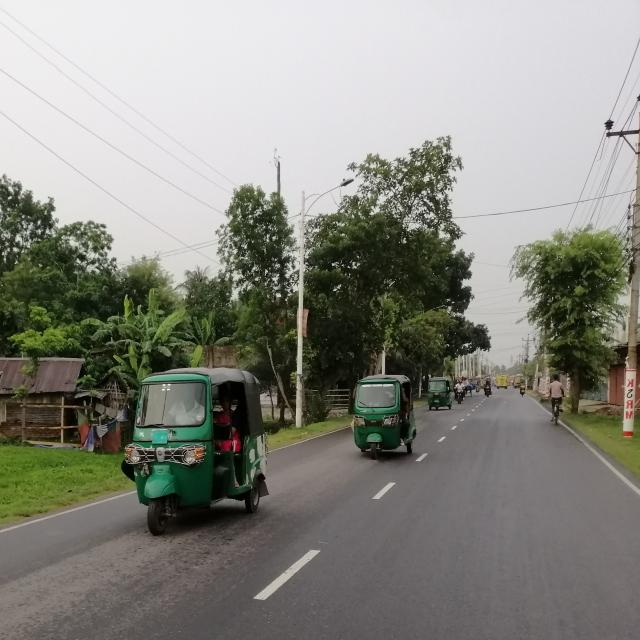CNG: (121, 363, 275, 541), (350, 372, 419, 457), (423, 377, 455, 415)
